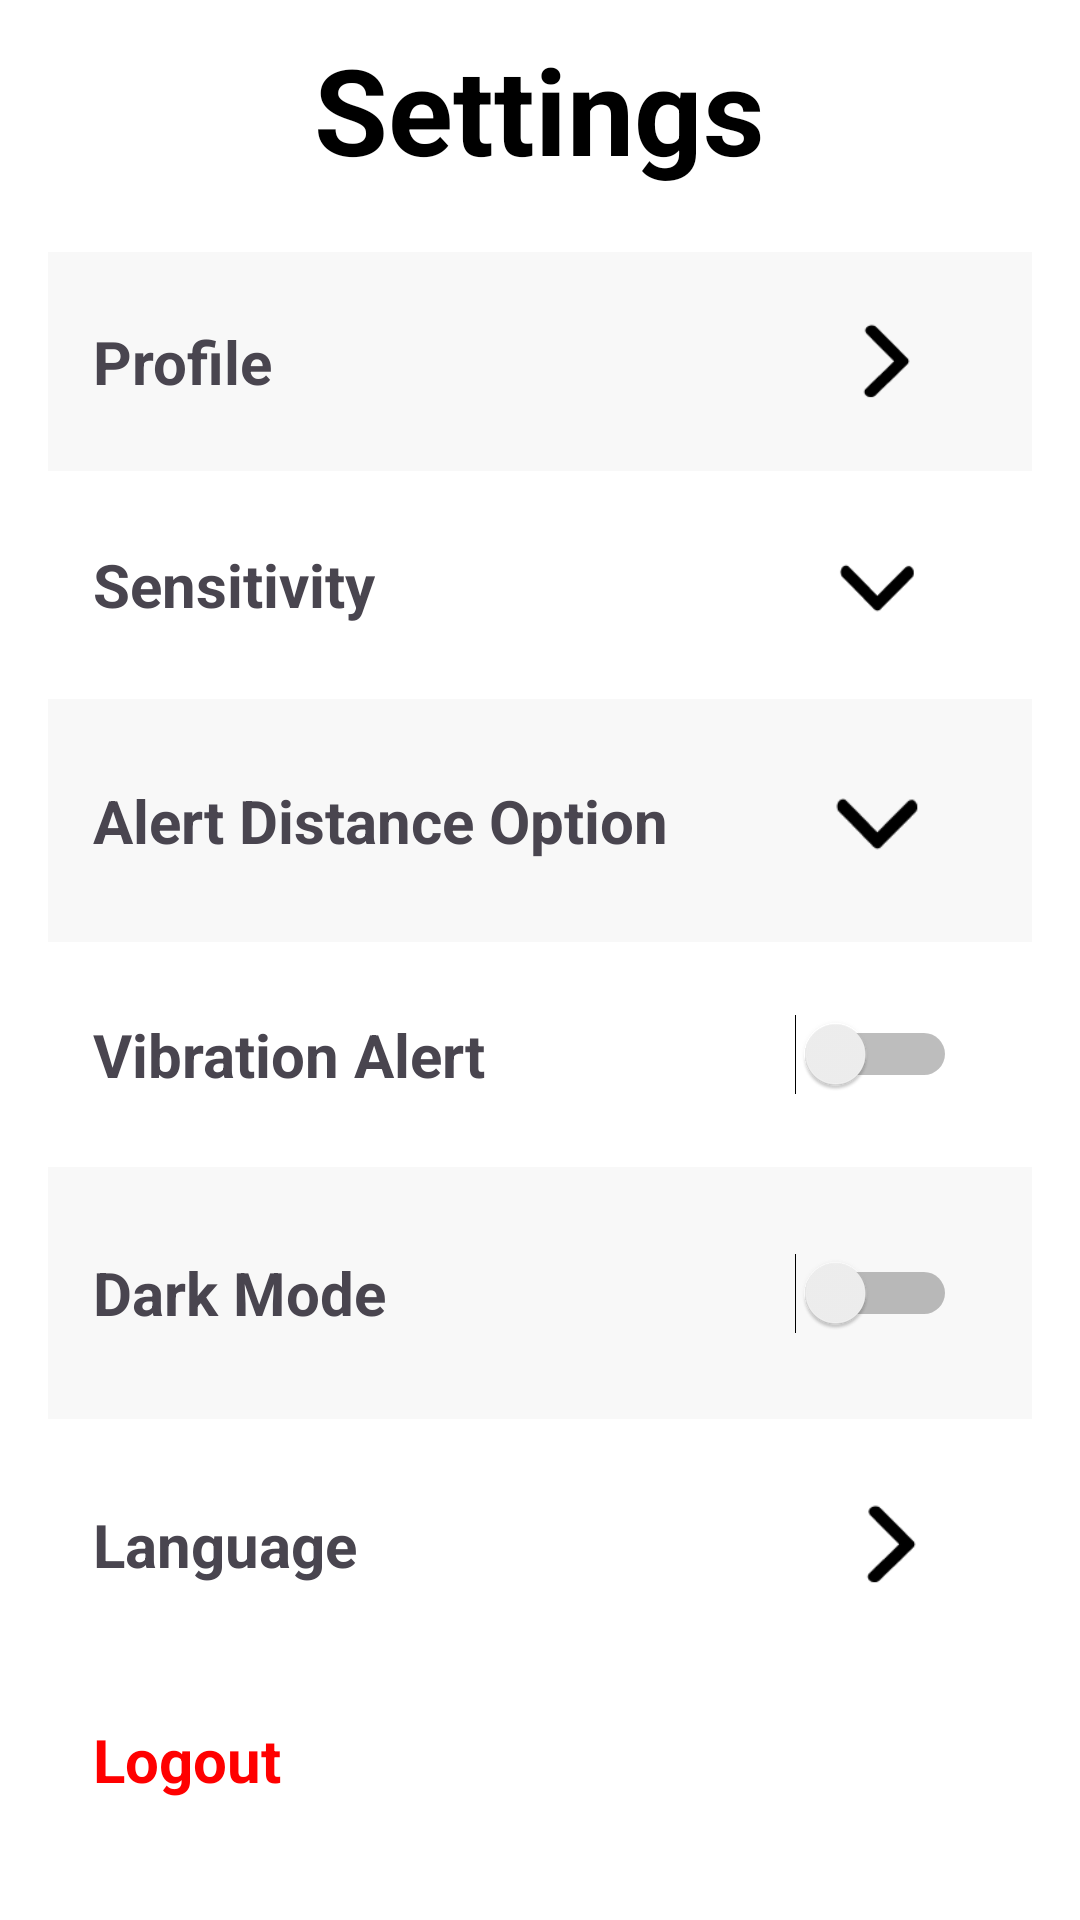

Icon bounding boxes for this 1080×1920 phone screenshot, format region(x1, y1, x2, y2):
arrow down: region(840, 565, 914, 612), region(836, 798, 918, 850)
arrow right: region(863, 324, 910, 398), region(867, 1505, 916, 1583)
